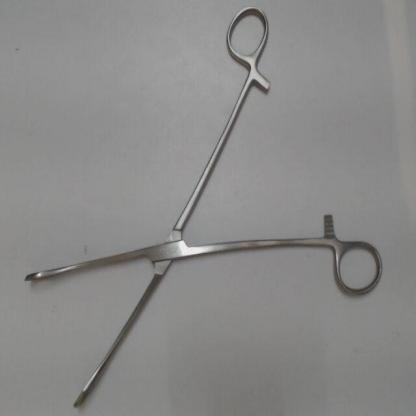Sponge Forceps: (18, 3, 386, 412)
